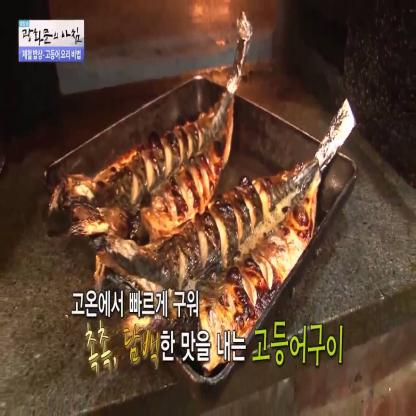Peixe: (104, 101, 368, 387), (46, 8, 252, 283)
